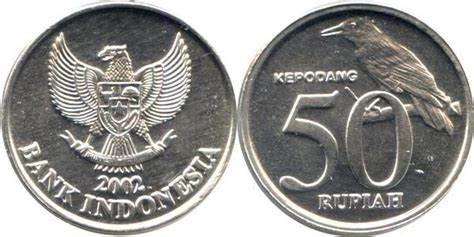coin_50_1999: (0, 0, 237, 237), (237, 0, 474, 237)
